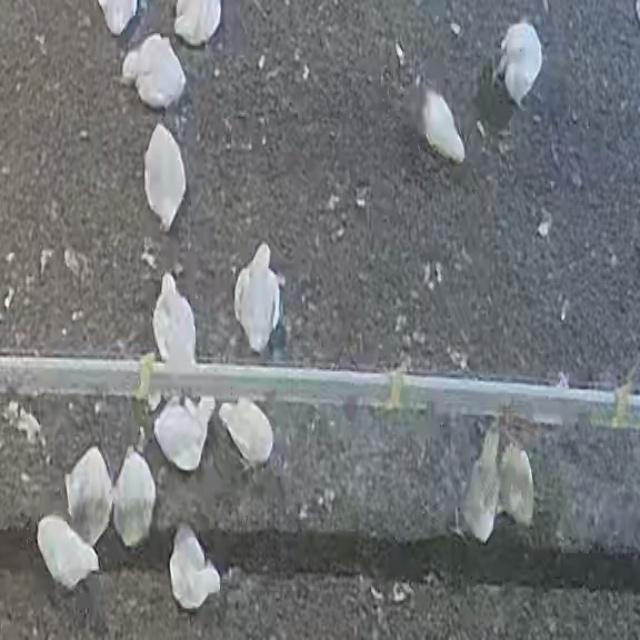chicken: (233, 239, 284, 355), (36, 515, 101, 593), (144, 123, 190, 233), (146, 272, 200, 364), (64, 445, 113, 546), (168, 522, 222, 610), (462, 424, 502, 542), (123, 34, 185, 110), (152, 396, 213, 471), (113, 446, 157, 546), (218, 397, 274, 469), (495, 20, 544, 102), (421, 85, 466, 165), (497, 444, 535, 528)
